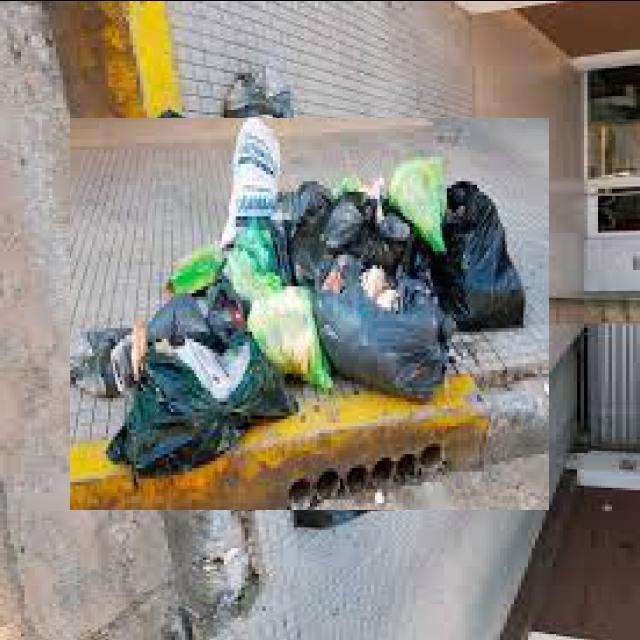Trashbag: (115, 343, 286, 480), (309, 258, 454, 404), (433, 190, 531, 330), (323, 198, 414, 276), (277, 177, 341, 287), (139, 286, 257, 342), (60, 324, 143, 398)
